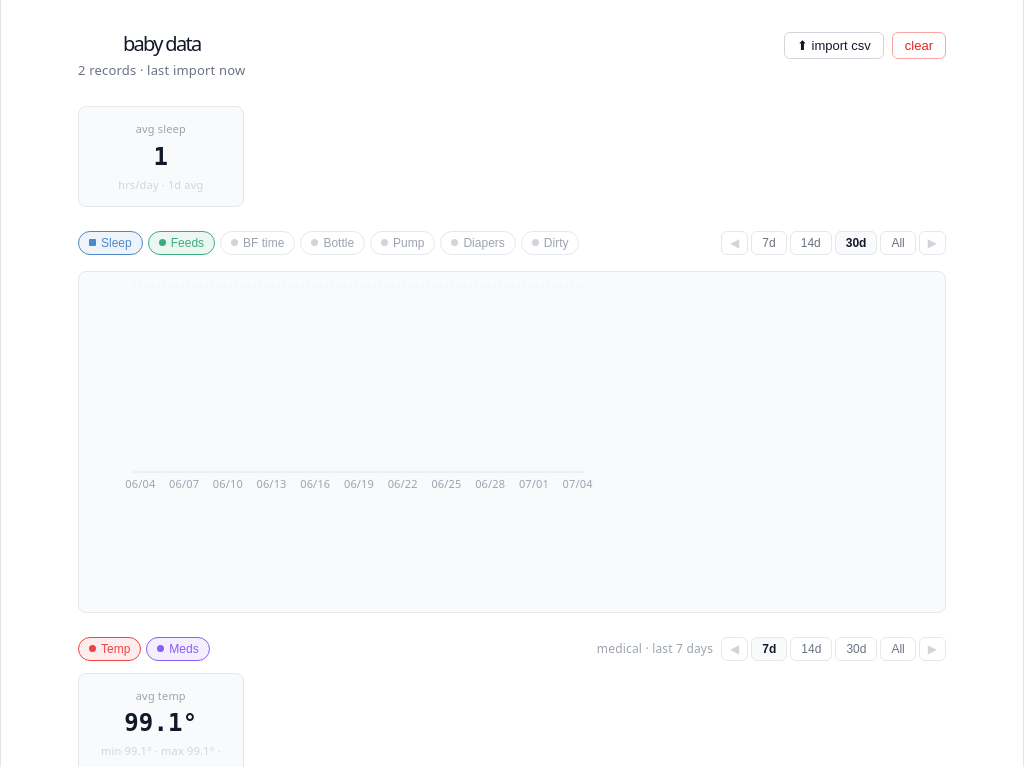
Test case: NaraAnalytics medical range buttons › clicking a medical range updates the section label
# medical buttons render after the main chart's in the DOM
Click the button "14d" in the row of "last 7 days": (811, 649) [790,637,832,661]
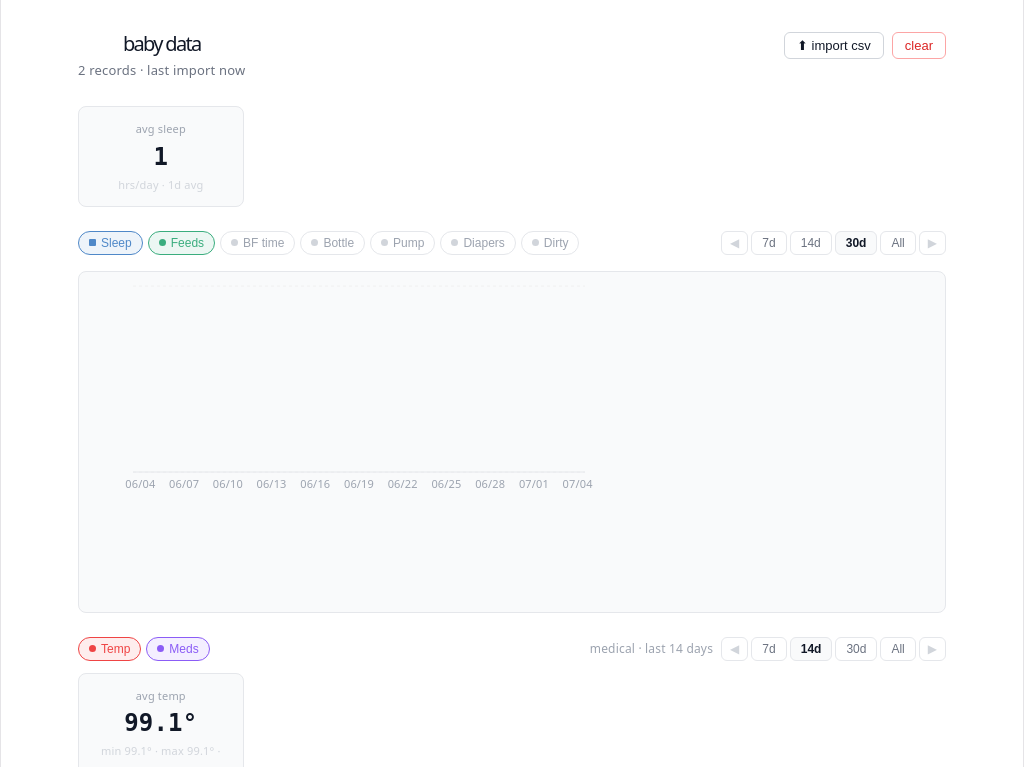
Expected: the text "medical · last 14 days" is shown, [590,637,713,660]
Click the button "All" in the row of "last 14 days": (898, 649) [880,637,916,661]
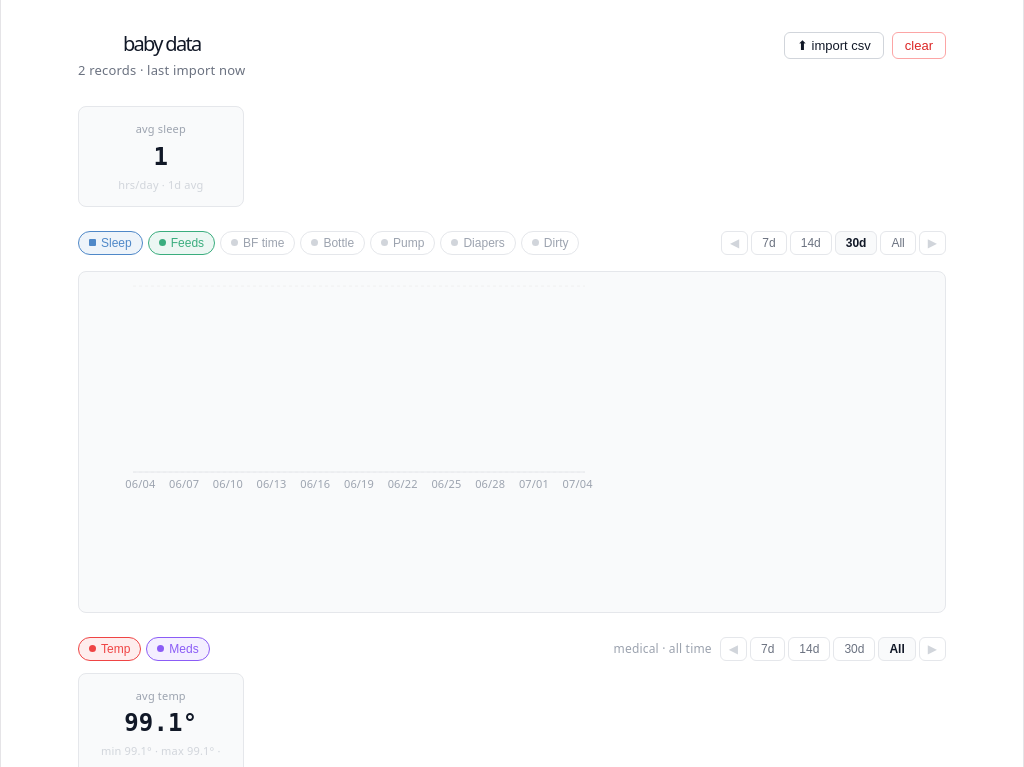
Expected: the text "medical · all time" is shown, [614,637,712,660]
